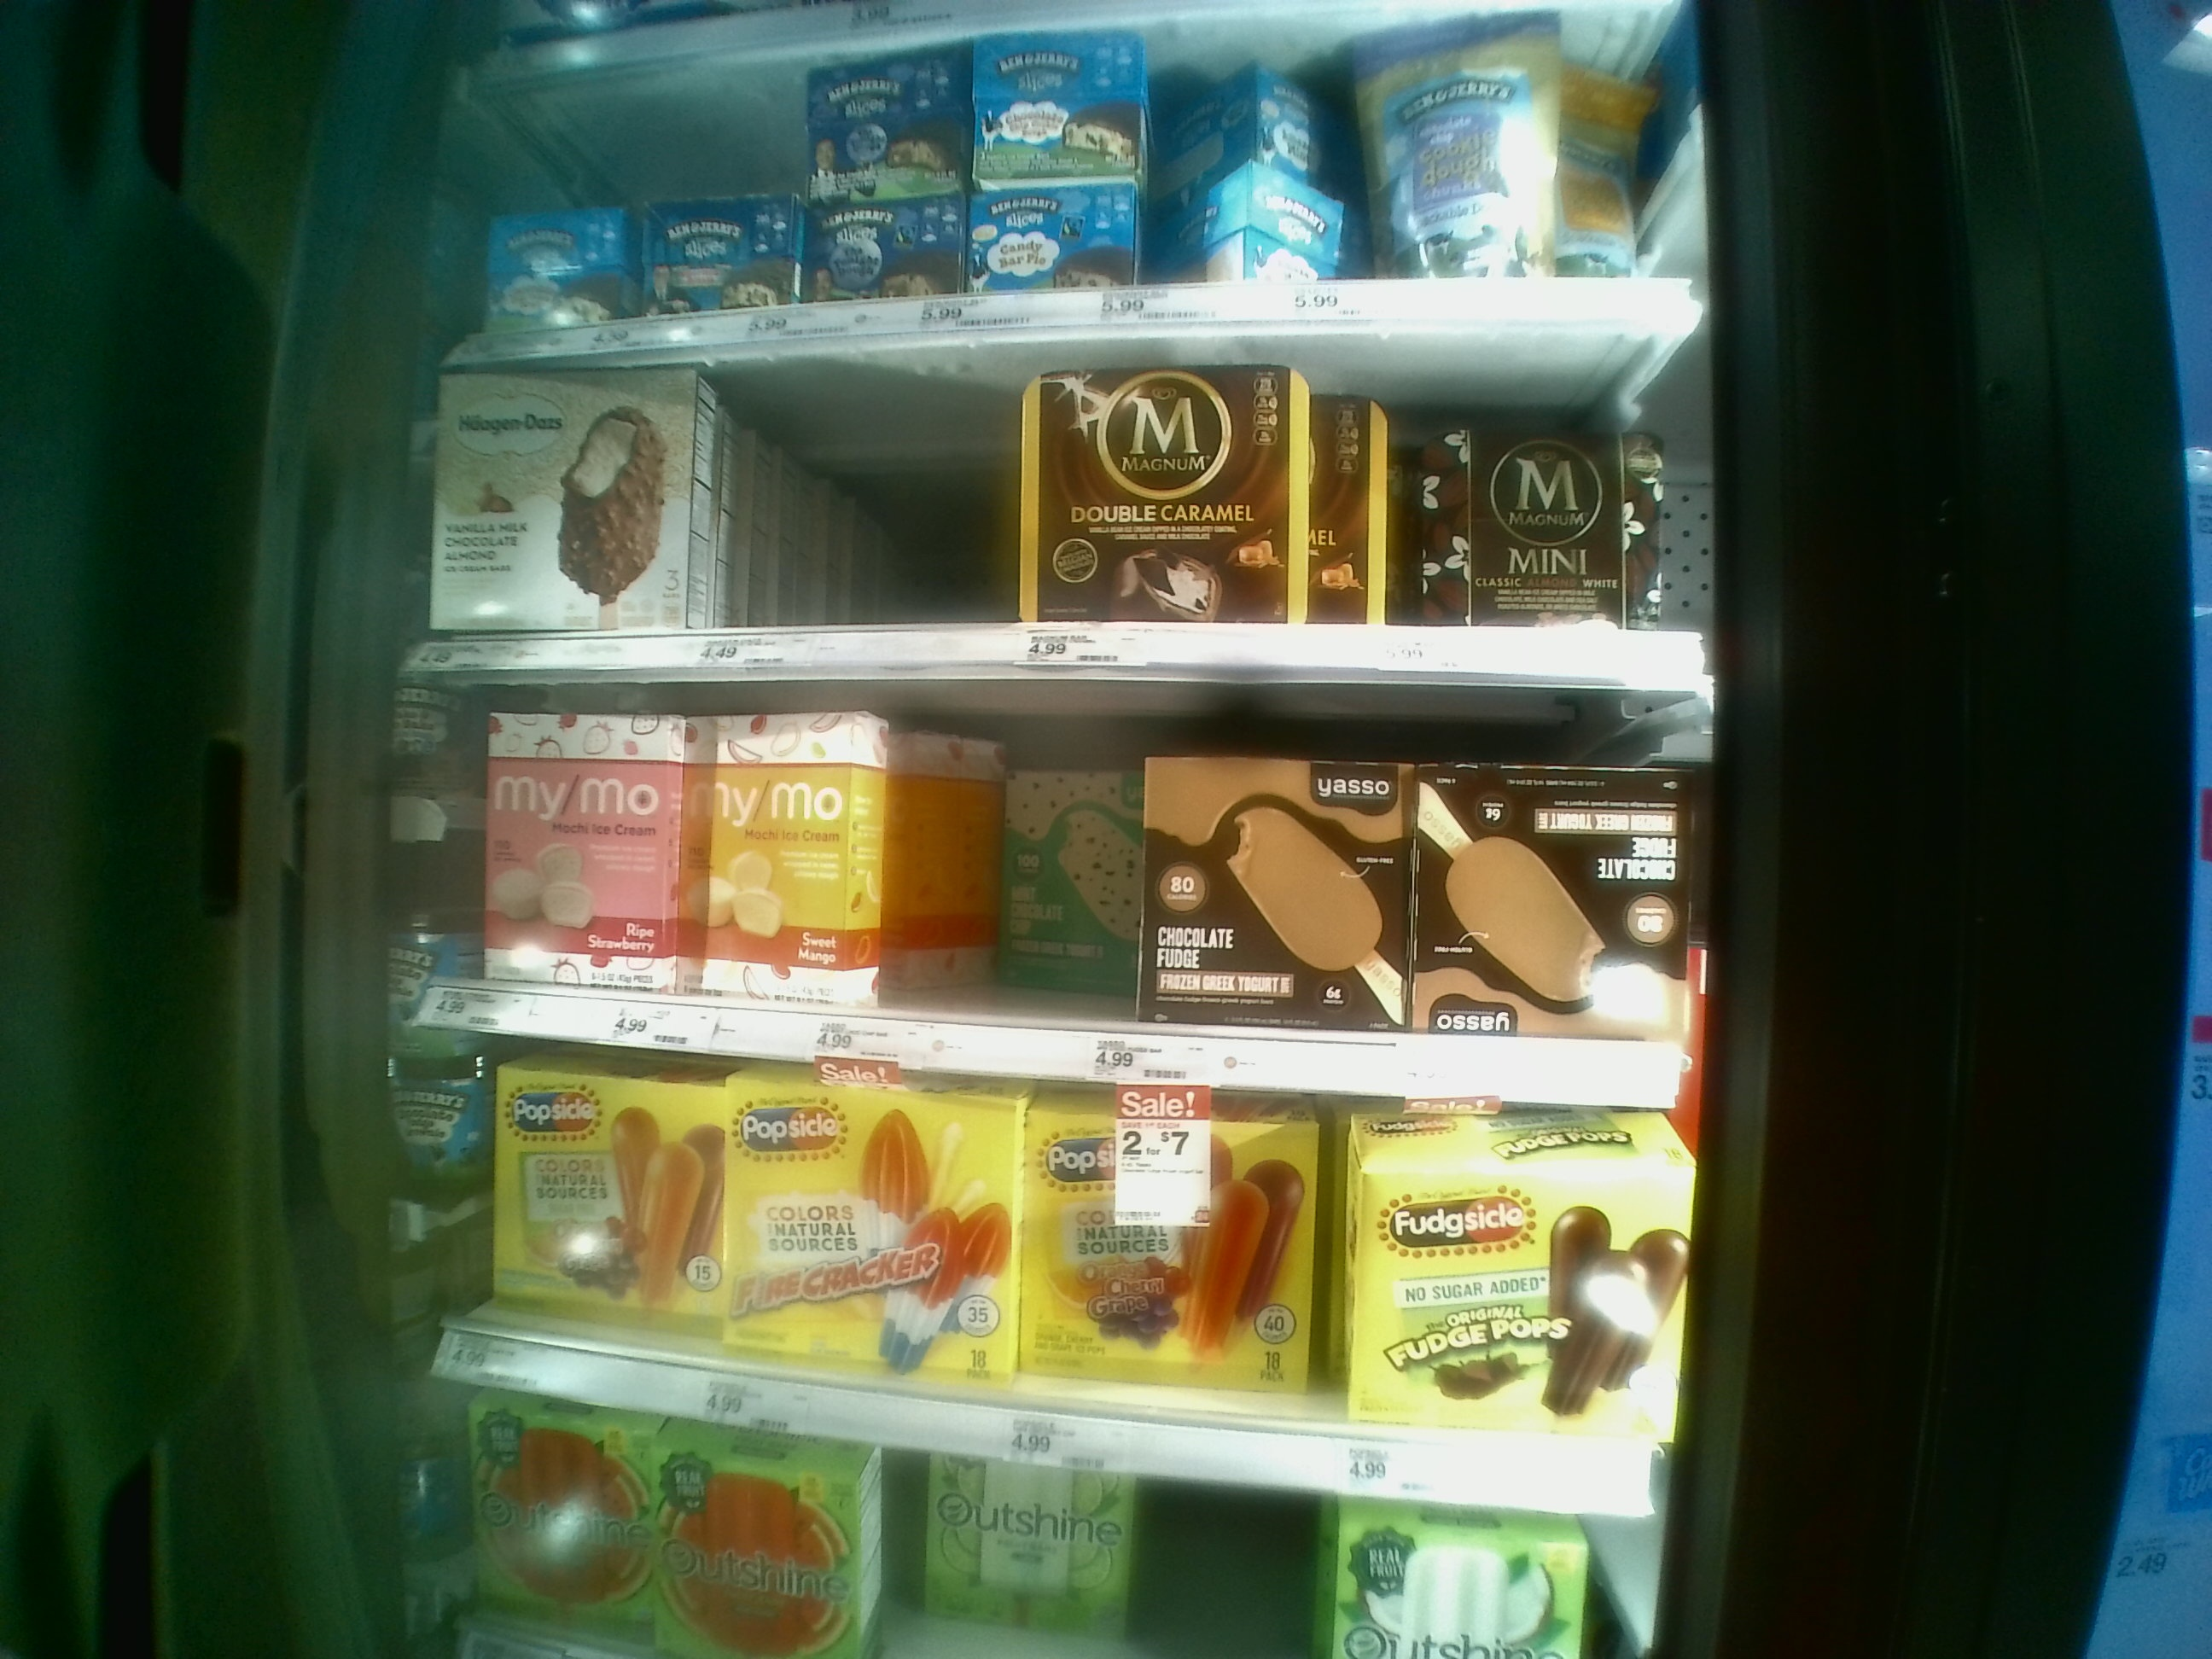shelf: (394, 1047, 1677, 1466), (425, 694, 1691, 1077), (435, 355, 1714, 687)
